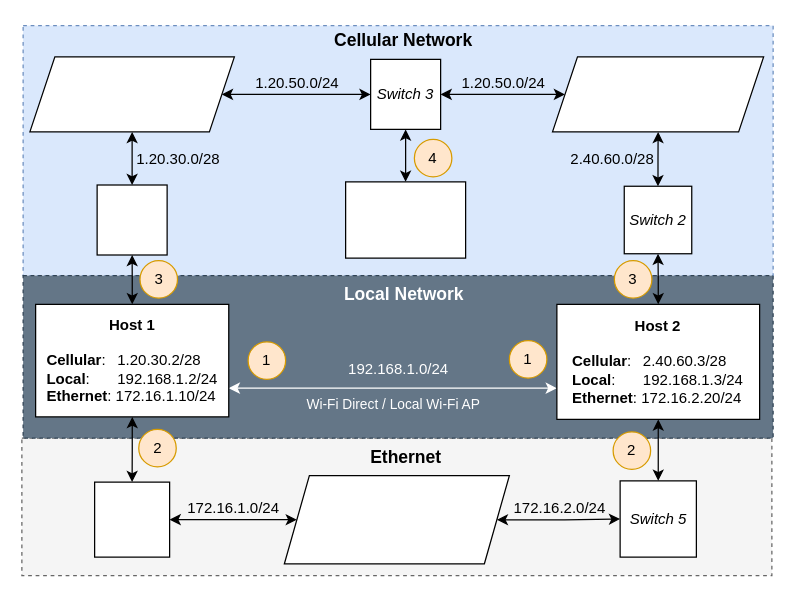
Some shapes in this 795 by 598 pixel diagram are drawn without their labels. The box of each missing label's shape, as (x1, y1, x2, y2) in pixels:
NAT H1 Internal: 1.20. 30 .1/28 External: 1.20. 50 .10/24: (29, 56, 234, 132)
NAT H2 Internal: 2.40.60.1/28 External: 1.20. 50 .20/24: (551, 56, 764, 132)
NAT Lokal Internal: 172.16. 1 .1/24 External: 172.16. 2 .1/24: (283, 474, 509, 564)
Switch 1: (96, 184, 167, 255)
Switch 4: (93, 481, 170, 557)
Turn Server Public IP: 1.20.50.100/24: (344, 181, 466, 258)
